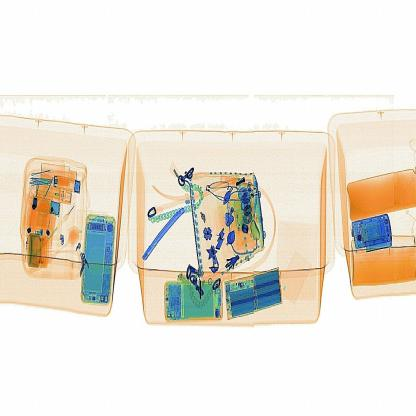pliers: (138, 196, 191, 266)
